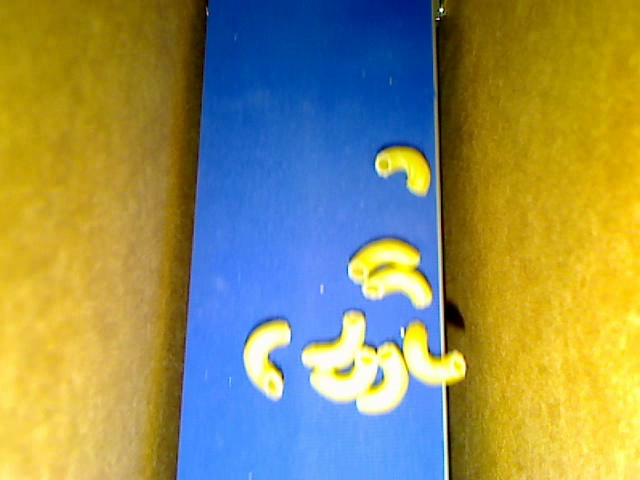elbow: (402, 318, 465, 385), (242, 317, 291, 401), (300, 309, 366, 371), (310, 344, 378, 403), (356, 342, 408, 416), (347, 235, 421, 284), (361, 263, 432, 308), (373, 145, 431, 197)
